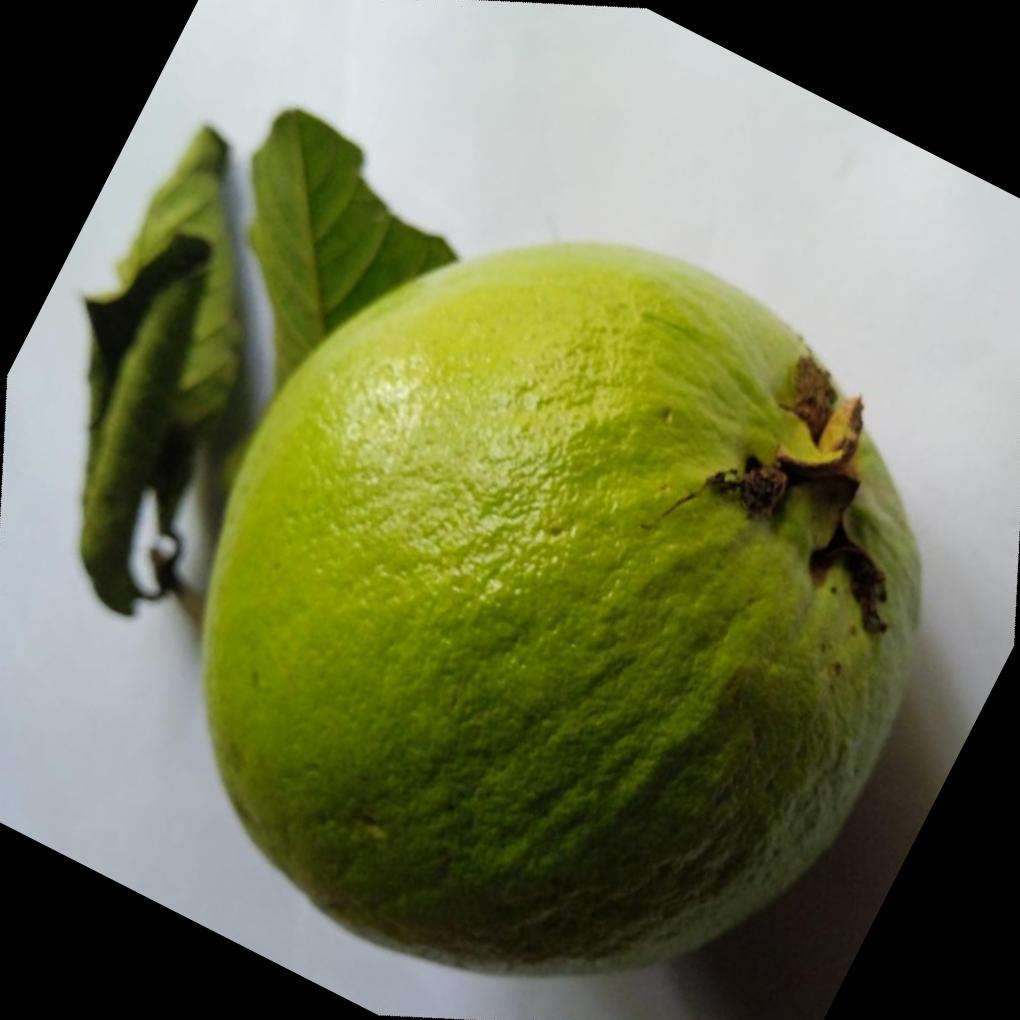FreshGuava: (202, 240, 926, 980)
